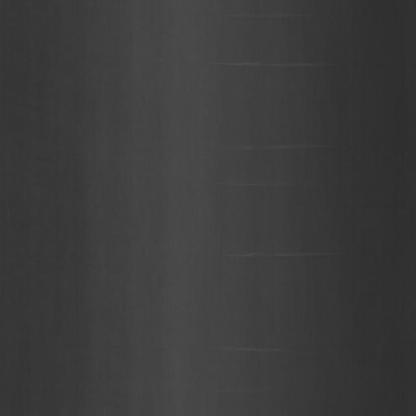waist_folding: (227, 19, 354, 396)
